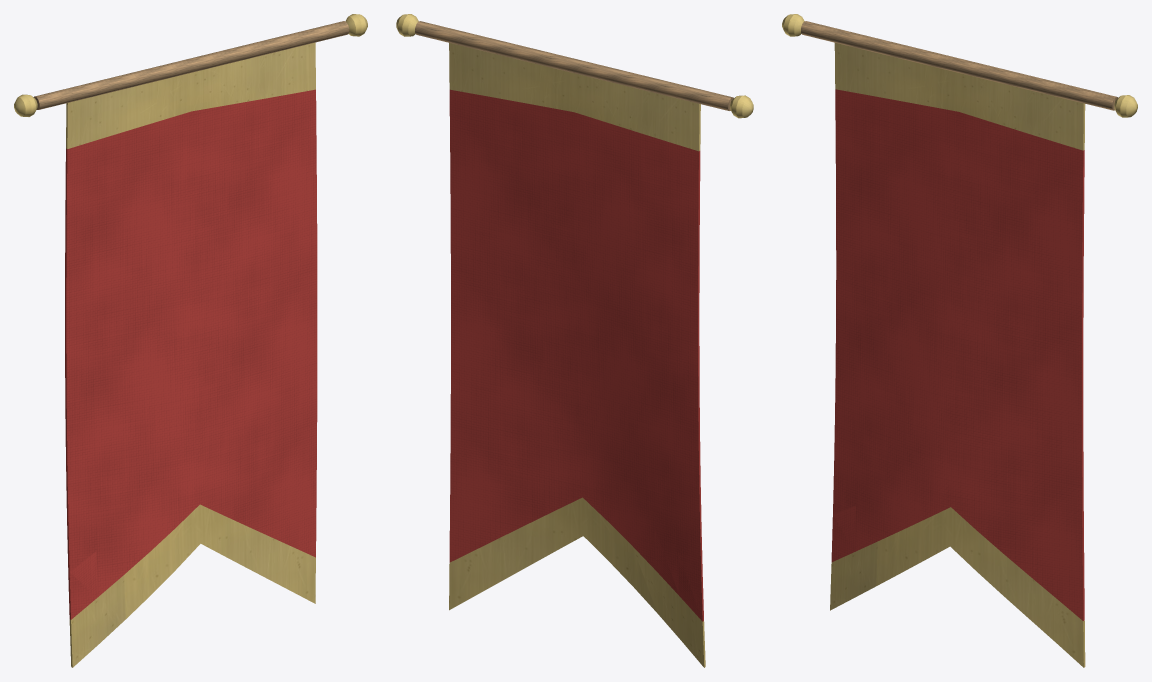
The model's file is banner.glb.
3 renders of one model, left to right at view 1: azimuth 30°, elevation 25°; view 2: azimuth 150°, elevation 25°; view 3: azimuth 330°, elevation 25°, orthographic.
Parts seen in each view (by area): view 1: OUT; view 2: OUT; view 3: OUT.
Part boxes in pixels (box(x1,y1,x2,y2)): OUT: box(14, 14, 367, 667); OUT: box(396, 14, 753, 667); OUT: box(782, 14, 1137, 667).
Bounding box in the file's own units: 1.7 × 2.68 × 0.1334.
3 materials, 3 textured.
